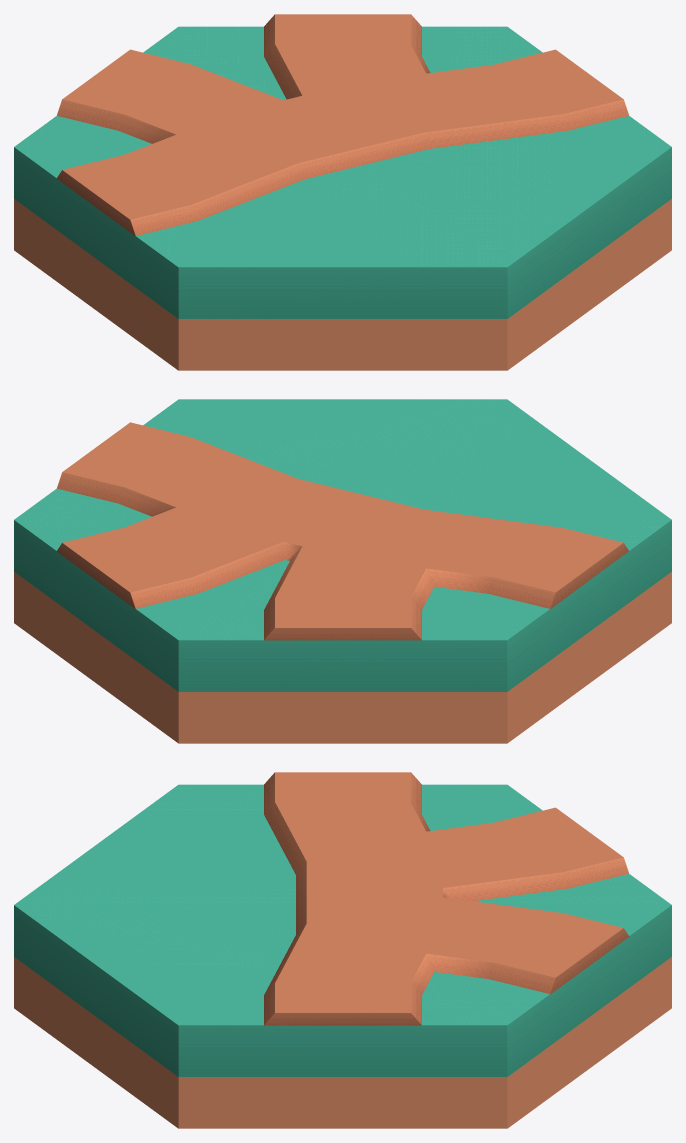
Rendered from grass-path-intersectionH.glb.
3 renders of one model, top to bottom at view 1: azimuth 30°, elevation 25°; view 2: azimuth 150°, elevation 25°; view 3: azimuth 270°, elevation 25°, orthographic.
Parts seen in each view (by area): view 1: grass, path-intersectionH; view 2: grass, path-intersectionH; view 3: grass, path-intersectionH.
Part boxes in pixels (box(x1,y1,x2,y2)): grass: box(14, 26, 671, 370); path-intersectionH: box(57, 14, 628, 236); grass: box(14, 399, 671, 743); path-intersectionH: box(56, 422, 628, 640); grass: box(14, 784, 671, 1128); path-intersectionH: box(264, 772, 629, 1025).
Bounding box in the file's own units: 1 × 0.224 × 1.15.
Materials: 1 (1 with a texture image).
